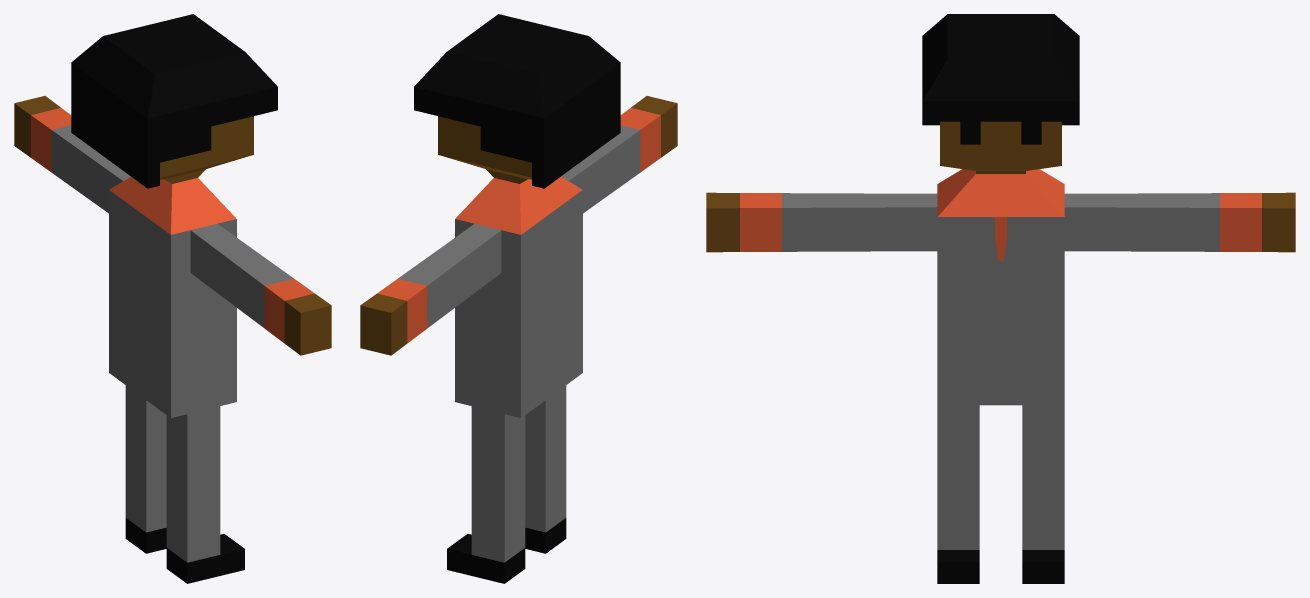
File: Homem-Cinza.fbx
3 views of the same model, side by side, from view 1: azimuth 30°, elevation 25°; view 2: azimuth 150°, elevation 25°; view 3: azimuth 270°, elevation 25° (orthographic). The views are drawn at different scales.
Parts seen in each view (by area): view 1: Cube; view 2: Cube; view 3: Cube.
Part boxes in pixels (<box>): Cube: <box>14,14,331,583</box>; Cube: <box>360,14,677,583</box>; Cube: <box>706,14,1295,583</box>.
Size of the model in its own units: 105 by 396 by 401.
